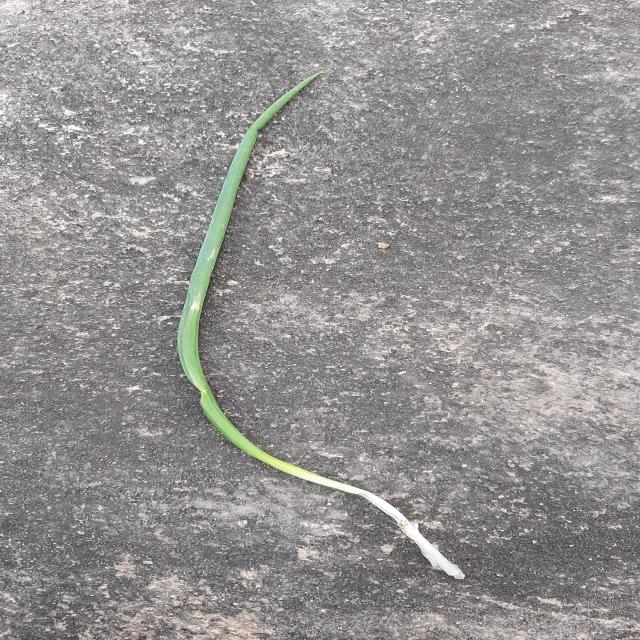onion: (176, 72, 463, 579)
